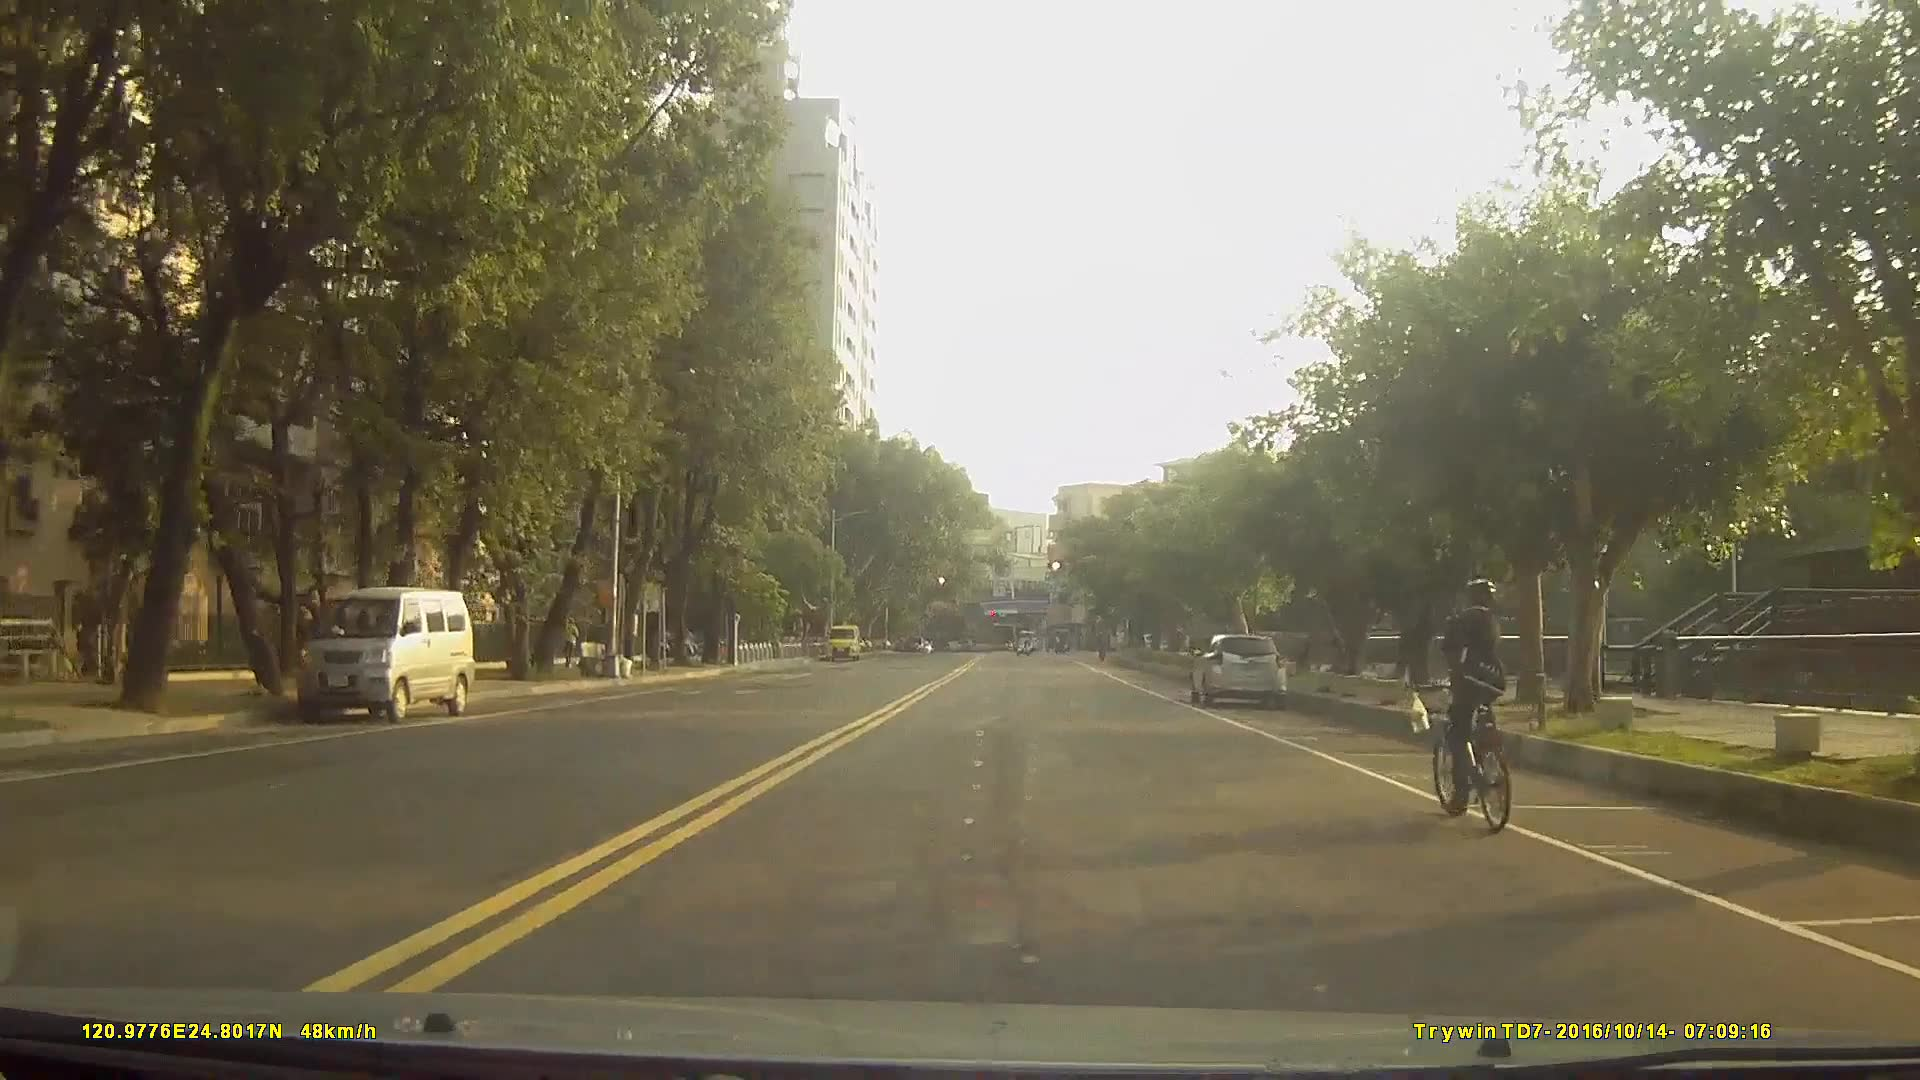rider: (1427, 579, 1519, 833)
vehicle: (291, 585, 477, 727), (1190, 630, 1288, 708), (1013, 628, 1039, 653)
